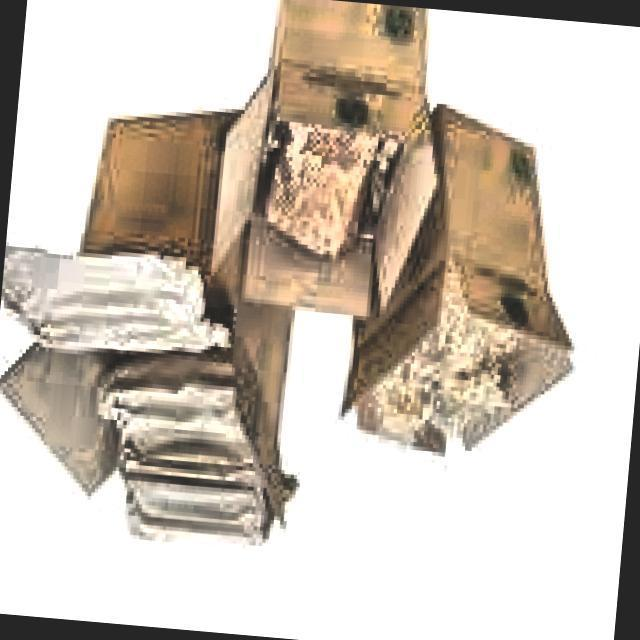cardboard: (334, 97, 594, 474)
